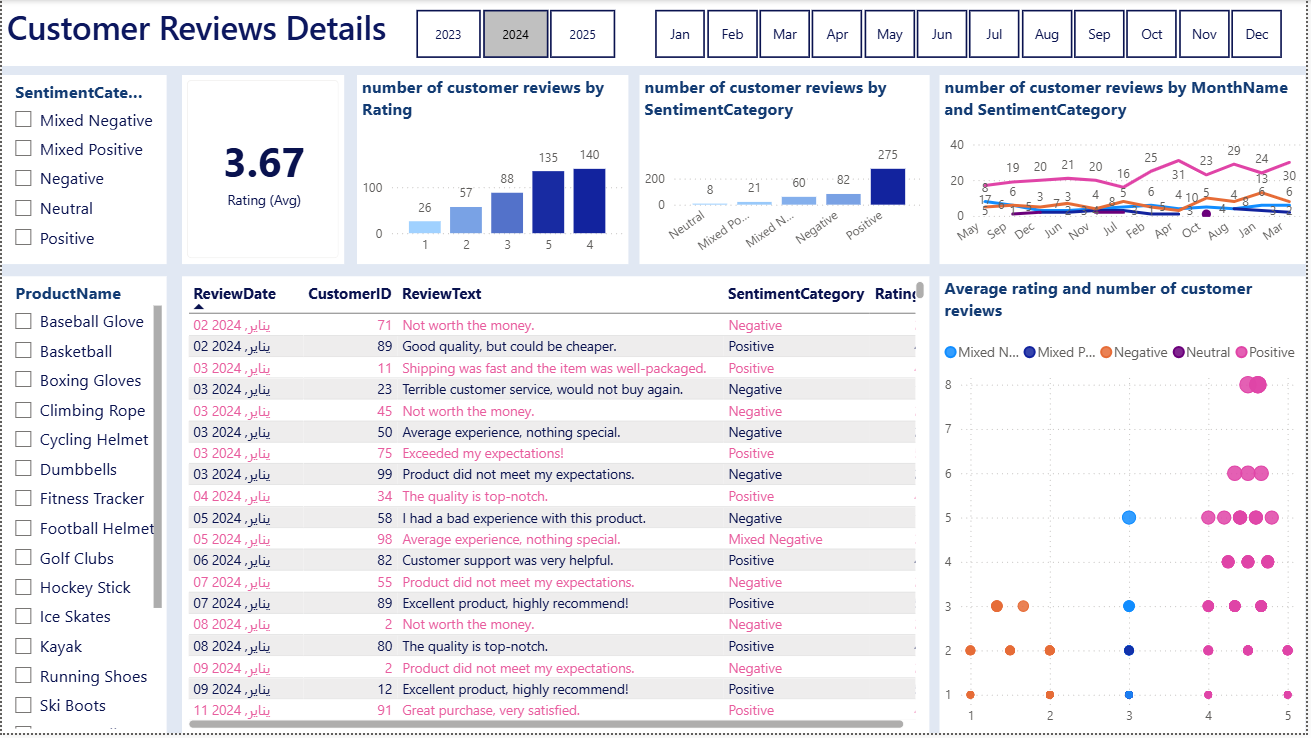

What the dashboard file says about the page in this screenshot:
{"tool":"powerbi","page":{"name":"CustomerReviewsDetails","canvas":[1280,720],"ordinal":3},"visuals":[{"type":"slicer","fields":{"Values":["dim_products.ProductName"]},"box":[0,271.2,162,449.1],"z":0},{"type":"textbox","box":[0,0,1280.3,64.5],"z":1000},{"type":"cardVisual","fields":{"Data":["_Calculations.Rating (Avg)"]},"box":[176.7,73.6,159.5,185.3],"z":8000},{"type":"slicer","fields":{"Values":["Calendar.Year"]},"box":[380.1,2.7,245.6,61.7],"z":10000},{"type":"slicer","fields":{"Values":["Calendar.MonthNameShort"]},"box":[614.8,2.7,665.5,61.7],"z":11000},{"type":"clusteredColumnChart","title":"number of customer reviews by Rating","fields":{"Y":["_Calculations.number of customer reviews"],"Category":["fact_customer_reviews_with_sentiment.Rating"]},"box":[348.5,73.6,266.3,185.3],"z":17002},{"type":"clusteredColumnChart","title":"number of customer reviews by SentimentCategory","fields":{"Y":["_Calculations.number of customer reviews"],"Category":["fact_customer_reviews_with_sentiment.SentimentCategory"]},"box":[625.8,73.6,284.7,185.3],"z":17003},{"type":"lineChart","title":"number of customer reviews by MonthName and SentimentCategory","fields":{"Category":["Calendar.MonthNameShort"],"Y":["_Calculations.number of customer reviews"],"Series":["fact_customer_reviews_with_sentiment.SentimentCategory"]},"box":[920.3,73.6,359.5,185.3],"z":17004},{"type":"tableEx","fields":{"Values":["fact_customer_reviews_with_sentiment.ReviewDate","fact_customer_reviews_with_sentiment.CustomerID","fact_customer_reviews_with_sentiment.ReviewText","fact_customer_reviews_with_sentiment.SentimentCategory","fact_customer_reviews_with_sentiment.Rating"]},"box":[176.7,271.2,733.7,449.1],"z":17005},{"type":"scatterChart","title":"Average rating and number of customer reviews","fields":{"Y":["_Calculations.number of customer reviews"],"X":["_Calculations.Rating (Avg)"],"Series":["fact_customer_reviews_with_sentiment.SentimentCategory"],"Category":["dim_customers.CustomerID"],"Size":["_Calculations.number of customer reviews"]},"box":[920.3,271.2,359.5,449.1],"z":17006},{"type":"slicer","fields":{"Values":["fact_customer_reviews_with_sentiment.SentimentCategory"]},"box":[0,73.6,162,185.3],"z":17007}]}

Visuals, with their boxes in screenshot pixels (x1, y1, x2, y2), scaled from the page's 1280x720 canvas onto the 1311x738 screenshot:
slicer - dim_products.ProductName: (left=0, top=278, right=166, bottom=737)
textbox: (left=0, top=0, right=1310, bottom=66)
cardVisual - _Calculations.Rating (Avg): (left=181, top=75, right=344, bottom=265)
slicer - Calendar.Year: (left=389, top=3, right=641, bottom=66)
slicer - Calendar.MonthNameShort: (left=630, top=3, right=1310, bottom=66)
"number of customer reviews by Rating" clusteredColumnChart: (left=357, top=75, right=630, bottom=265)
"number of customer reviews by SentimentCategory" clusteredColumnChart: (left=641, top=75, right=933, bottom=265)
"number of customer reviews by MonthName and SentimentCategory" lineChart: (left=943, top=75, right=1310, bottom=265)
tableEx - fact_customer_reviews_with_sentiment.ReviewDate x fact_customer_reviews_with_sentiment.CustomerID: (left=181, top=278, right=932, bottom=737)
"Average rating and number of customer reviews" scatterChart: (left=943, top=278, right=1310, bottom=737)
slicer - fact_customer_reviews_with_sentiment.SentimentCategory: (left=0, top=75, right=166, bottom=265)
